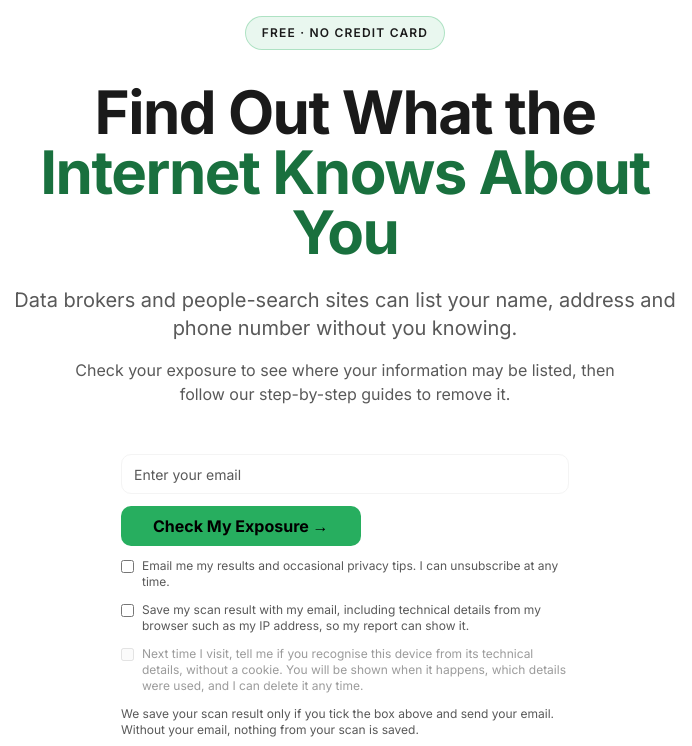
Scenario: Scan page: the recognise opt-in box (MPC-7494) › when both switches are on: a separate, optional, UNTICKED box with the exact wording, disabled until the save box is ticked
Expected: the checkbox named "Next time I visit, tell me if you recognise this device from its technical details, without a cookie. You will be shown " is not checked, [121,648,134,661]
Expected: the checkbox named "Next time I visit, tell me if you recognise this device from its technical details, without a cookie. You will be shown " is disabled, [121,648,134,661]
Click the checkbox named "Save my scan result with my email, including technical details from my browser such as my IP address, so my report can s" at x=128, y=610, box [121,604,134,617]
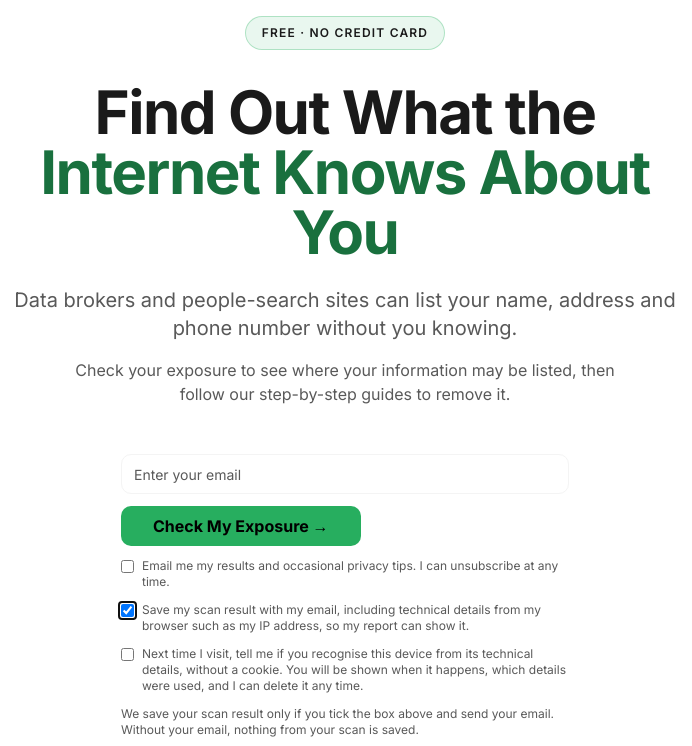
Expected: the checkbox named "Next time I visit, tell me if you recognise this device from its technical details, without a cookie. You will be shown " is not checked, [121,648,134,661]
Now the checkbox named "Next time I visit, tell me if you recognise this device from its technical details, without a cookie. You will be shown " is enabled, box [121,648,134,661]
